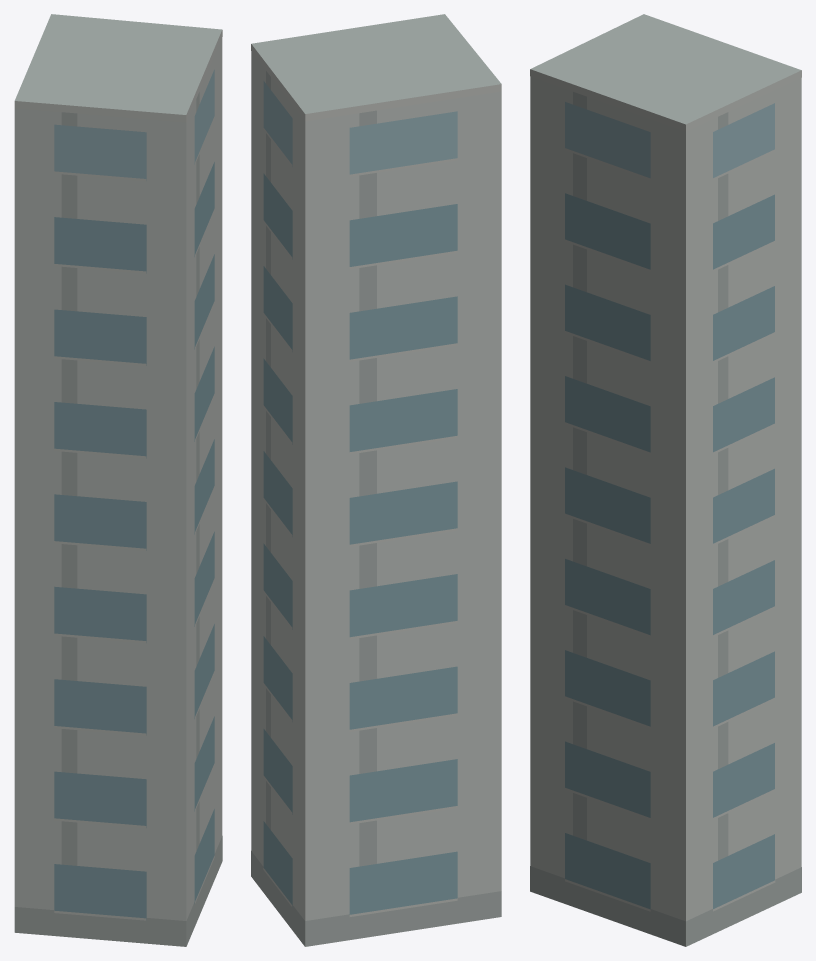
Rendered from survey-upis-33038788.glb.
The picture shows the model from 3 angles, left to right: view 1: azimuth 30°, elevation 25°; view 2: azimuth 150°, elevation 25°; view 3: azimuth 270°, elevation 25°; orthographic projection.
Visible parts, largest first — view 1: survey-upis-33038788.tmp; view 2: survey-upis-33038788.tmp; view 3: survey-upis-33038788.tmp.
Part boxes in pixels (x1,y1,x2,y2): survey-upis-33038788.tmp: (14, 14, 222, 946); survey-upis-33038788.tmp: (251, 14, 501, 946); survey-upis-33038788.tmp: (530, 14, 801, 946).
Bounding box in the file's own units: 7.92 × 27.45 × 8.22.
